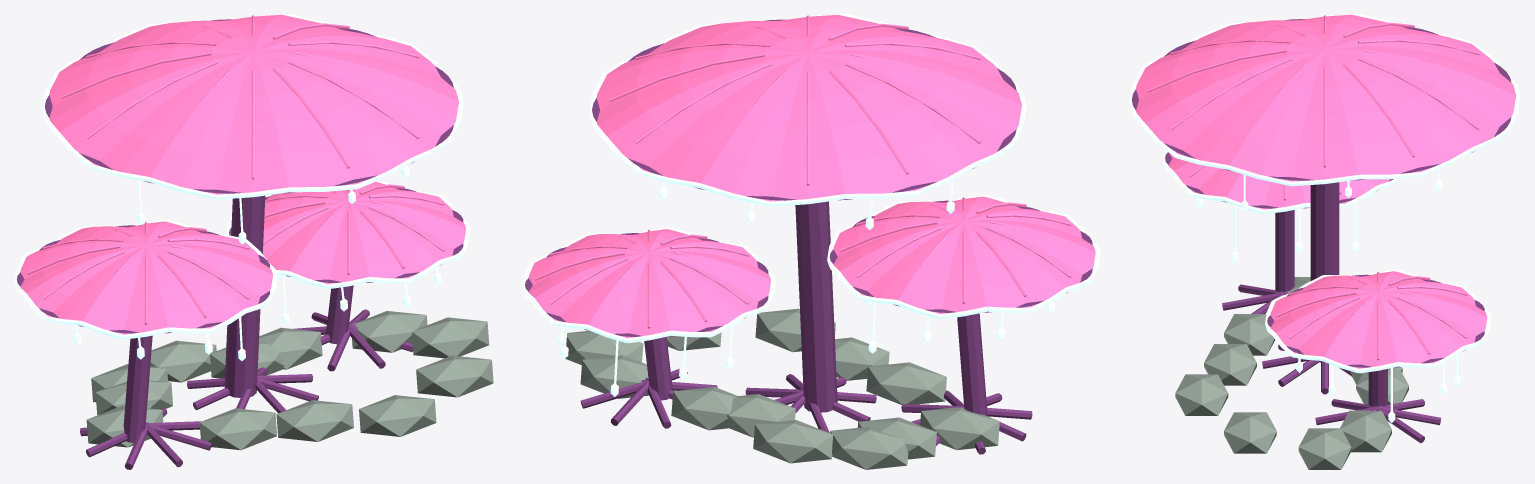
File: world-anemone.glb
The picture shows the model from 3 angles, left to right: view 1: azimuth 30°, elevation 25°; view 2: azimuth 150°, elevation 25°; view 3: azimuth 270°, elevation 25°; orthographic projection. The views are drawn at different scales.
Visible parts, largest first — view 1: world-anemone / Coral rose frills, world-anemone / Drowned limestone, world-anemone / Royal plum coral, world-anemone / Luminous coral edge; view 2: world-anemone / Coral rose frills, world-anemone / Drowned limestone, world-anemone / Royal plum coral, world-anemone / Luminous coral edge; view 3: world-anemone / Coral rose frills, world-anemone / Drowned limestone, world-anemone / Royal plum coral, world-anemone / Luminous coral edge.
Boxes of the visible parts, bbox=[...] form: world-anemone / Coral rose frills: bbox=[20, 14, 465, 334]; world-anemone / Drowned limestone: bbox=[86, 311, 493, 450]; world-anemone / Royal plum coral: bbox=[17, 19, 463, 469]; world-anemone / Luminous coral edge: bbox=[14, 14, 470, 360]; world-anemone / Coral rose frills: bbox=[528, 14, 1095, 338]; world-anemone / Drowned limestone: bbox=[565, 308, 999, 469]; world-anemone / Royal plum coral: bbox=[525, 19, 1092, 454]; world-anemone / Luminous coral edge: bbox=[522, 14, 1100, 396]; world-anemone / Coral rose frills: bbox=[1136, 14, 1516, 368]; world-anemone / Drowned limestone: bbox=[1175, 277, 1408, 469]; world-anemone / Royal plum coral: bbox=[1131, 19, 1511, 443]; world-anemone / Luminous coral edge: bbox=[1129, 14, 1520, 422].
Bounding box in the file's own units: 11.51 × 8.11 × 8.8.
